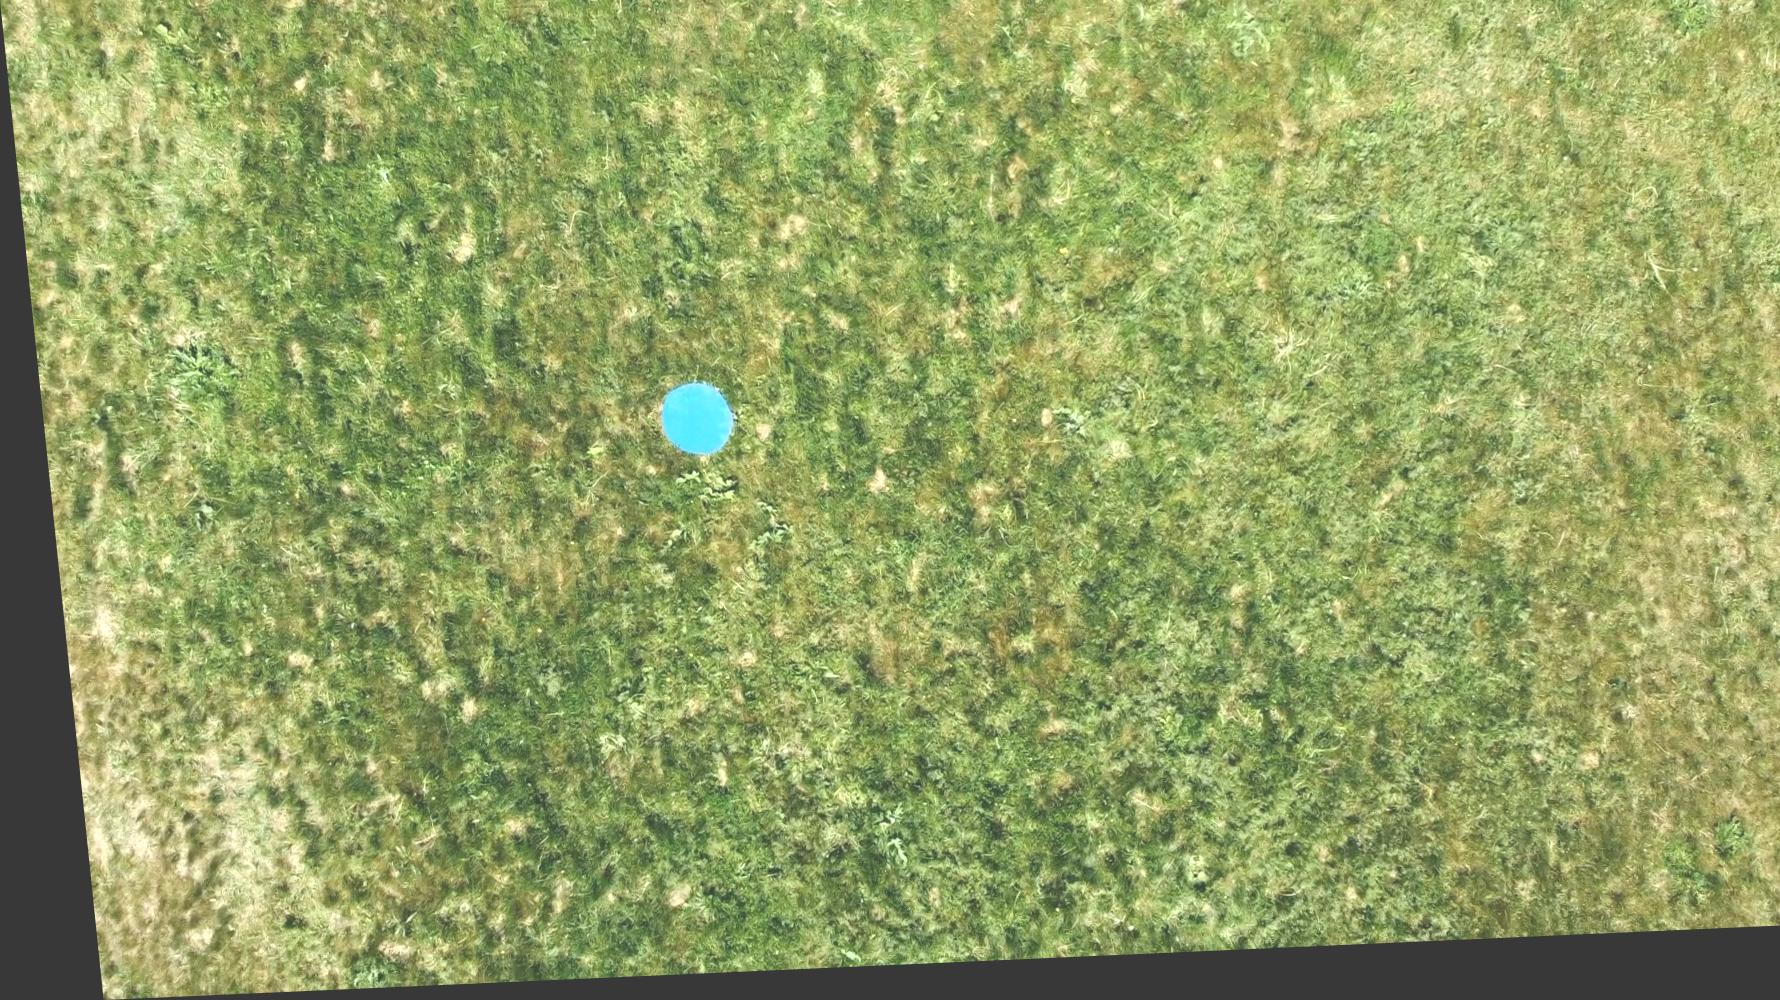Blue: (647, 384, 729, 465)
